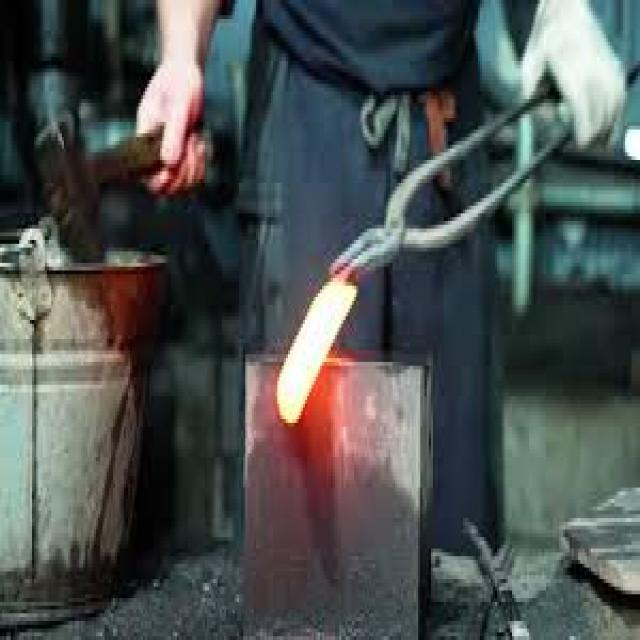hammer: (29, 86, 230, 276)
